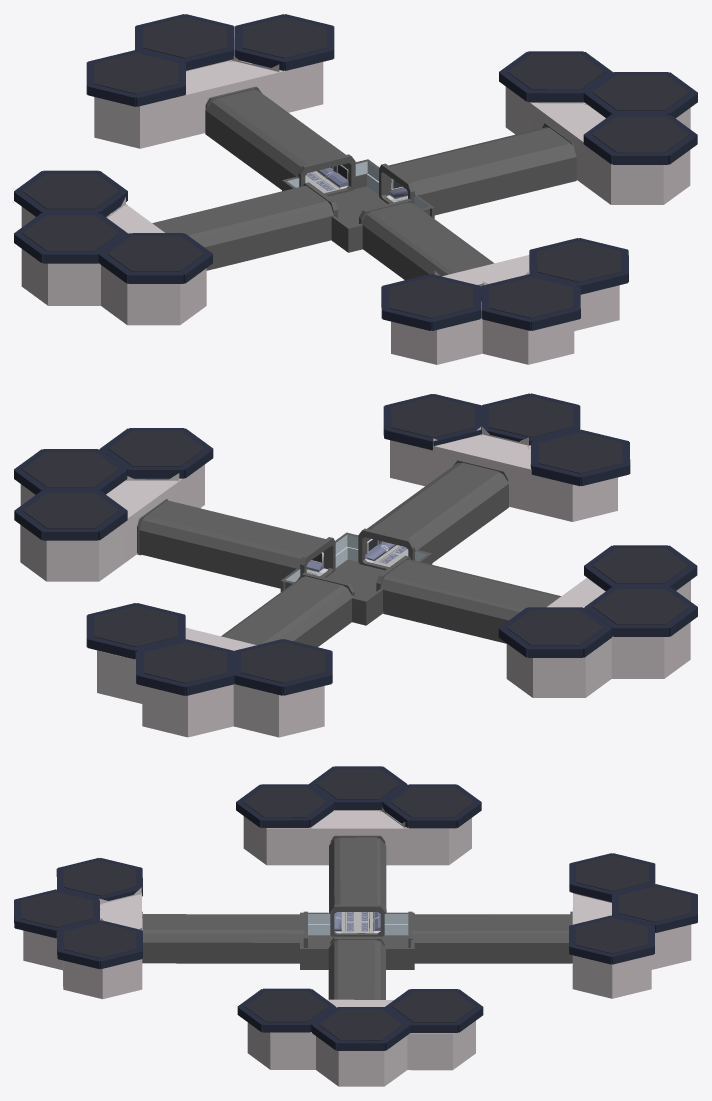
File: Bunker.glb
3 views of the same model, one above another, from view 1: azimuth 30°, elevation 25°; view 2: azimuth 150°, elevation 25°; view 3: azimuth 270°, elevation 25° (orthographic). The views are drawn at different scales.
Visible parts, largest first — view 1: Cube.001, base, left_bay_hexagonal_ceiling_panel.003, left_bay_hexagonal_ceiling_panel.001, left_bay_hexagonal_ceiling_panel.005, left_bay_hexagonal_ceiling_panel.008; view 2: Cube.001, base, left_bay_hexagonal_ceiling_panel.005, left_bay_hexagonal_ceiling_panel.008, left_bay_hexagonal_ceiling_panel.001, left_bay_hexagonal_ceiling_panel.003; view 3: Cube.001, base, left_bay_hexagonal_ceiling_panel.001, left_bay_hexagonal_ceiling_panel.008, left_bay_hexagonal_ceiling_panel.005, left_bay_hexagonal_ceiling_panel.003.
Part boxes in pixels (x1,y1,x2,y2): Cube.001: (21, 38, 690, 364); base: (152, 89, 576, 279); left_bay_hexagonal_ceiling_panel.003: (381, 238, 628, 330); left_bay_hexagonal_ceiling_panel.001: (499, 51, 697, 164); left_bay_hexagonal_ceiling_panel.005: (86, 14, 334, 106); left_bay_hexagonal_ceiling_panel.008: (14, 170, 212, 283); Cube.001: (20, 426, 690, 737); base: (139, 462, 561, 647); left_bay_hexagonal_ceiling_panel.005: (86, 603, 332, 695); left_bay_hexagonal_ceiling_panel.008: (498, 545, 697, 657); left_bay_hexagonal_ceiling_panel.001: (14, 428, 213, 540); left_bay_hexagonal_ceiling_panel.003: (383, 393, 630, 486); Cube.001: (23, 807, 691, 1086); base: (142, 837, 571, 999); left_bay_hexagonal_ceiling_panel.001: (237, 988, 483, 1050); left_bay_hexagonal_ceiling_panel.008: (236, 766, 481, 828); left_bay_hexagonal_ceiling_panel.005: (569, 853, 697, 964); left_bay_hexagonal_ceiling_panel.003: (14, 858, 142, 969).
Bounding box in the file's own units: 115 × 9.59 × 120.
